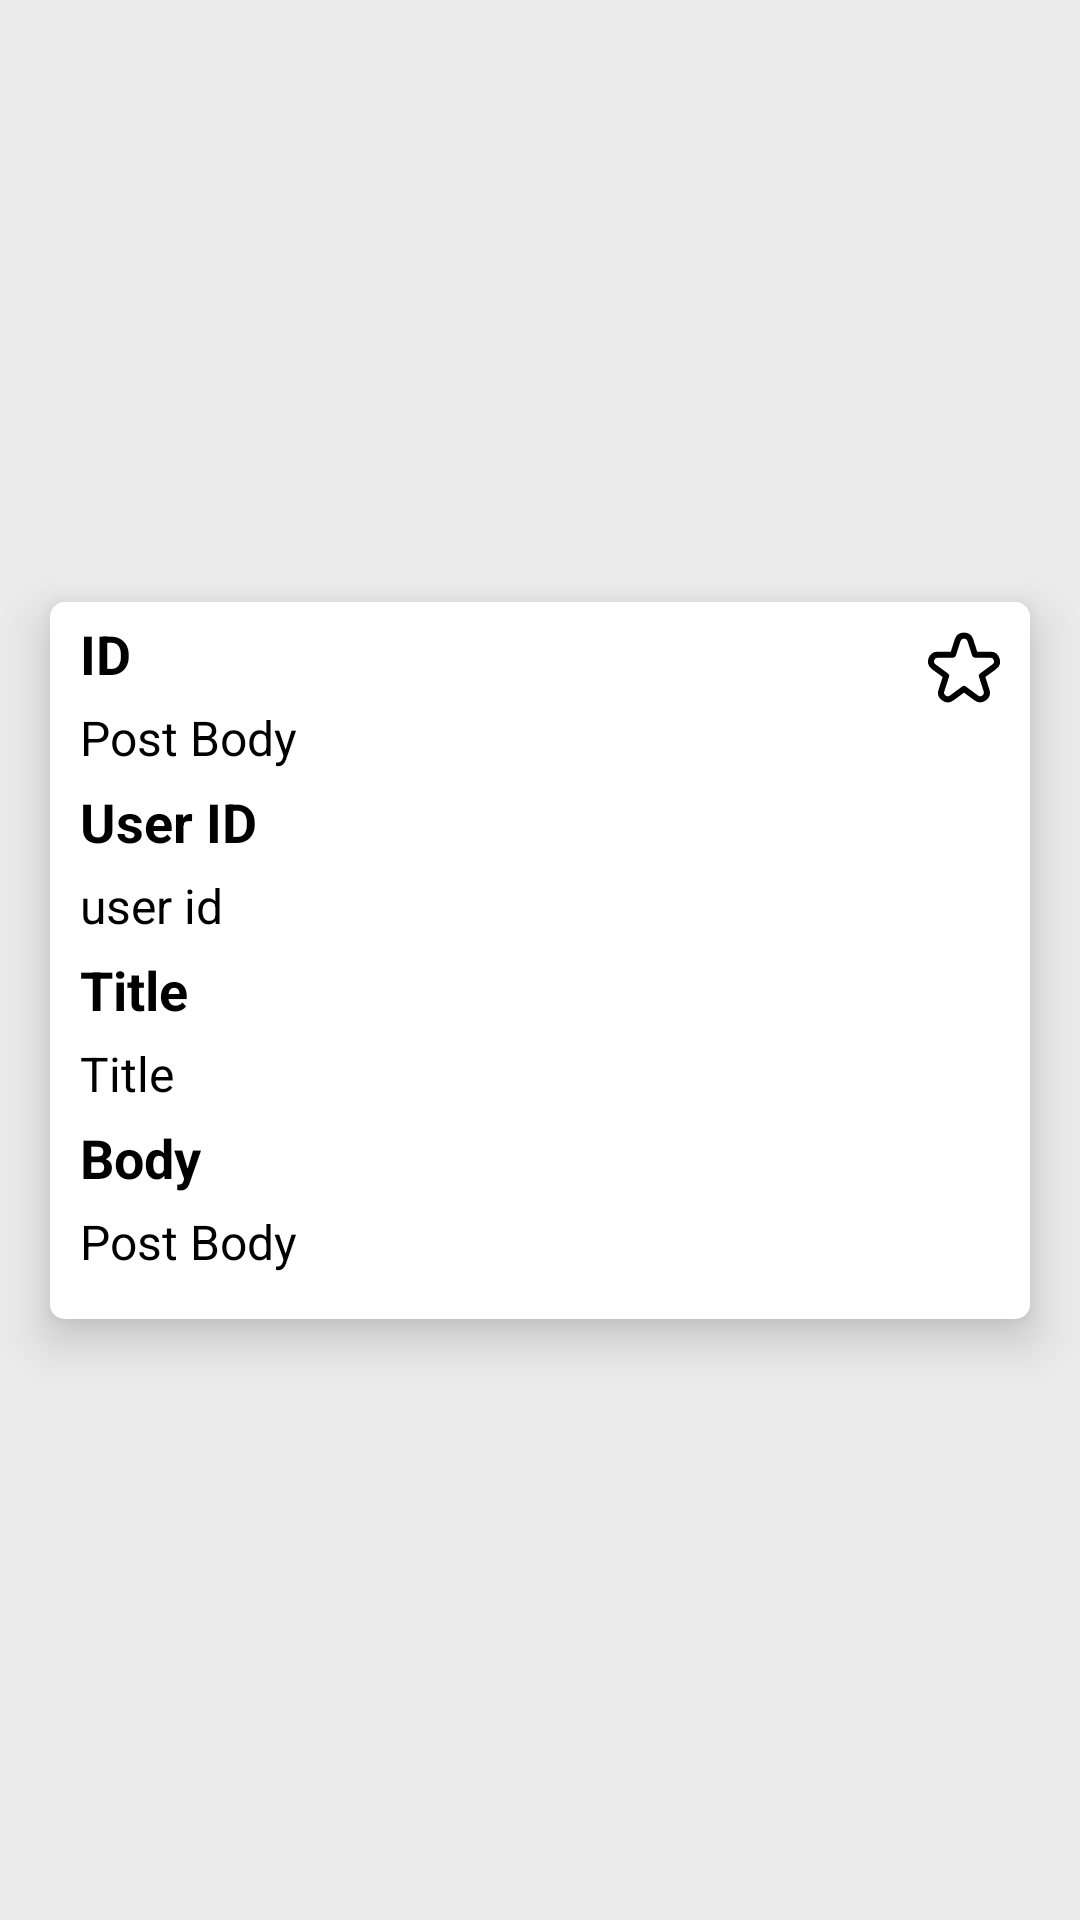

Icon click points for this 1080x1920 phone screenshot, format (x=x, y=y):
Favourite button: (x=964, y=667)
